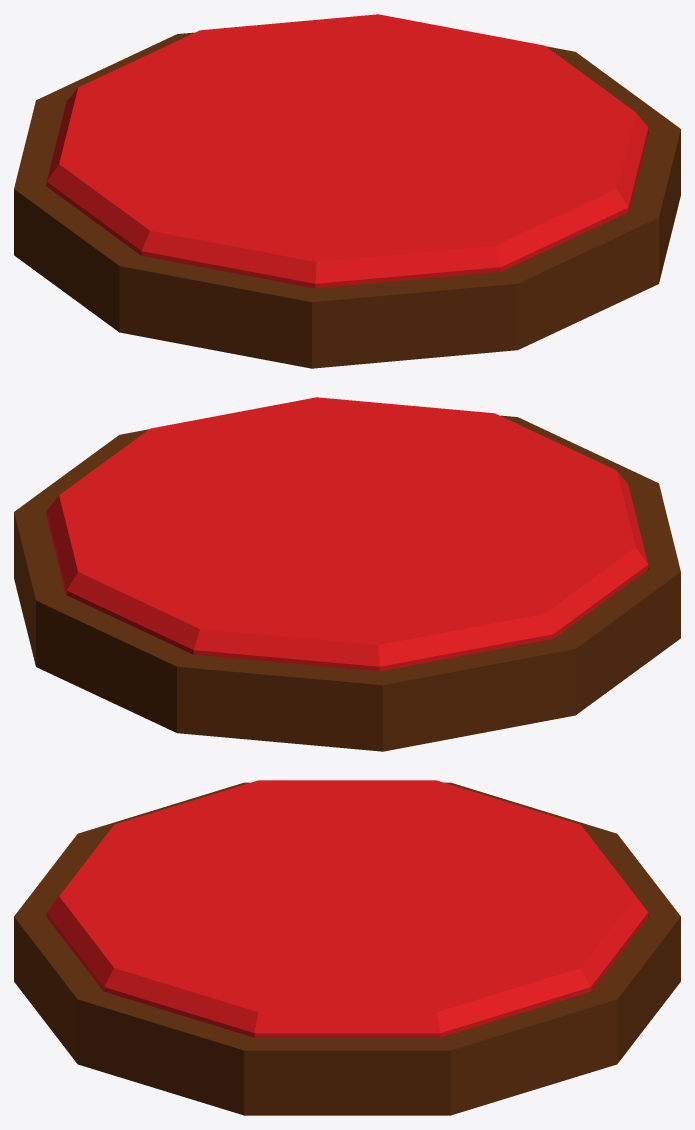
File: Boardspaces.fbx
3 views of the same model, one above another, from view 1: azimuth 30°, elevation 25°; view 2: azimuth 150°, elevation 25°; view 3: azimuth 270°, elevation 25° (orthographic). The views are drawn at different scales.
Visible parts, largest first — view 1: Cylinder_001; view 2: Cylinder_001; view 3: Cylinder_001.
Boxes of the visible parts, x1,y1,x2,y2 form: Cylinder_001: (14, 14, 680, 368); Cylinder_001: (14, 397, 680, 751); Cylinder_001: (14, 780, 680, 1115).
Bounding box in the file's own units: 550 × 81.64 × 579.
